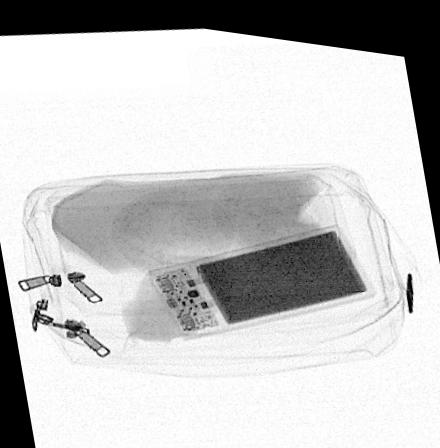Powerbank: (143, 213, 377, 336)
